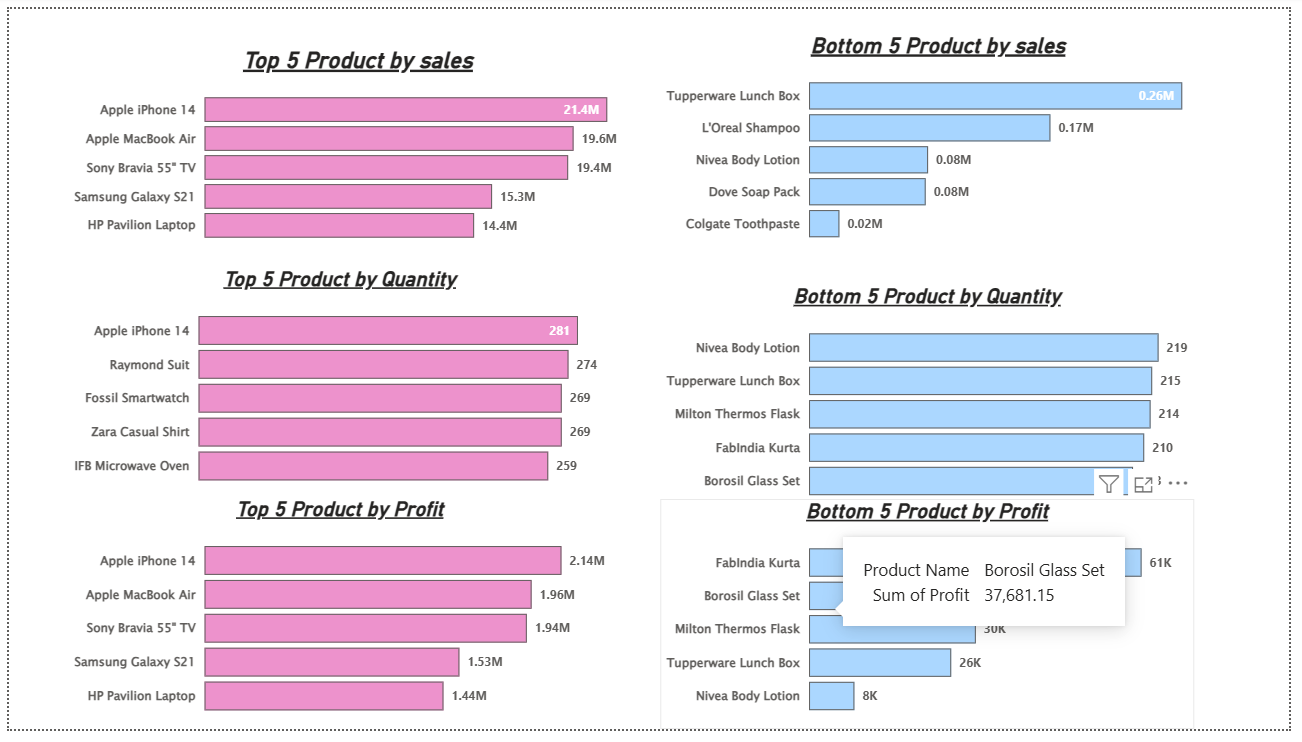

Layout of this report page (visuals, bound fields, positions):
{"tool":"powerbi","page":{"name":"Top-Bottom 5 Analysis","canvas":[1280,720],"ordinal":1},"visuals":[{"type":"barChart","title":"Top 5 Product by sales","fields":{"Category":["Dim Product.Product Name"],"Y":["Sum(fact.Net Sales)"]},"box":[58.3,37.9,580.4,208.5],"z":0},{"type":"barChart","title":"Bottom 5 Product by sales","fields":{"Category":["Dim Product.Product Name"],"Y":["Sum(fact.Net Sales)"]},"box":[651.8,23.3,555.6,223.1],"z":1000},{"type":"barChart","title":"Top 5 Product by Quantity","fields":{"Category":["Dim Product.Product Name"],"Y":["Sum(fact.Unit sold)"]},"box":[58.3,258.1,543.9,233.3],"z":2000},{"type":"barChart","title":"Bottom 5 Product by Quantity","fields":{"Category":["Dim Product.Product Name"],"Y":["Sum(fact.Unit sold)"]},"box":[651.8,275.6,533.7,230.4],"z":3000},{"type":"barChart","title":"Top 5 Product by Profit","fields":{"Category":["Dim Product.Product Name"],"Y":["Sum(fact.Profit)"]},"box":[58.3,487,543.9,233.3],"z":4000},{"type":"barChart","title":"Bottom 5 Product by Profit","fields":{"Category":["Dim Product.Product Name"],"Y":["Sum(fact.Profit)"]},"box":[651.8,490,533.7,230.4],"z":5000}]}

Visuals, with their boxes in screenshot pixels (x1, y1, x2, y2), scaled from the page's 1280x720 canvas onto the 1302x742 screenshot:
"Top 5 Product by sales" barChart: {"left": 59, "top": 39, "right": 650, "bottom": 254}
"Bottom 5 Product by sales" barChart: {"left": 663, "top": 24, "right": 1228, "bottom": 254}
"Top 5 Product by Quantity" barChart: {"left": 59, "top": 266, "right": 613, "bottom": 506}
"Bottom 5 Product by Quantity" barChart: {"left": 663, "top": 284, "right": 1206, "bottom": 521}
"Top 5 Product by Profit" barChart: {"left": 59, "top": 502, "right": 613, "bottom": 741}
"Bottom 5 Product by Profit" barChart: {"left": 663, "top": 505, "right": 1206, "bottom": 741}
